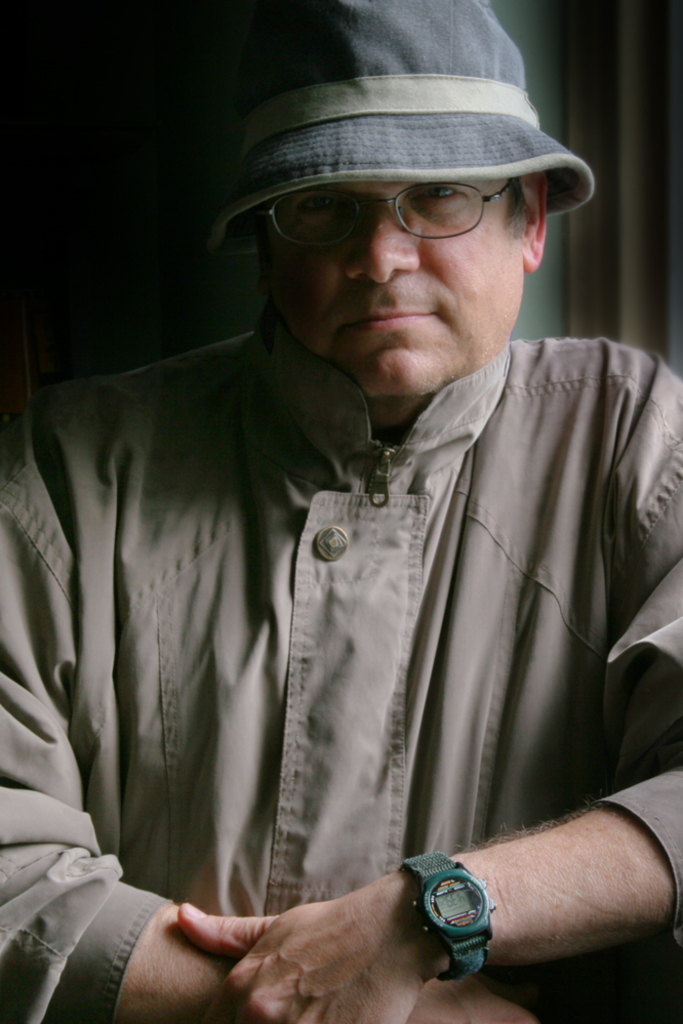watch: (400, 848, 495, 985)
